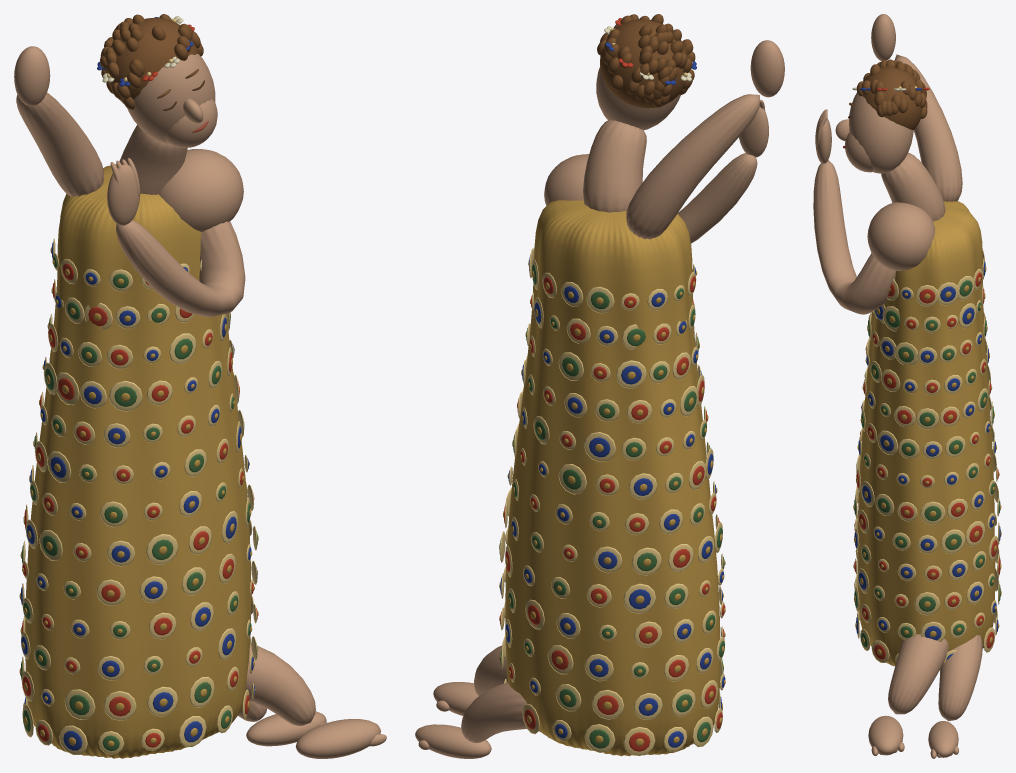
File: woman-posed.glb
3 views of the same model, side by side, from view 1: azimuth 30°, elevation 25°; view 2: azimuth 150°, elevation 25°; view 3: azimuth 270°, elevation 25° (orthographic). The views are drawn at different scales.
Parts seen in each view (by area): view 1: Woman combined geometry; view 2: Woman combined geometry; view 3: Woman combined geometry.
Part boxes in pixels (bbox=[...]): Woman combined geometry: bbox=[14, 14, 386, 758]; Woman combined geometry: bbox=[415, 14, 784, 758]; Woman combined geometry: bbox=[813, 14, 1001, 758].
Bounding box in the file's own units: 0.719 × 1.49 × 0.4082.
